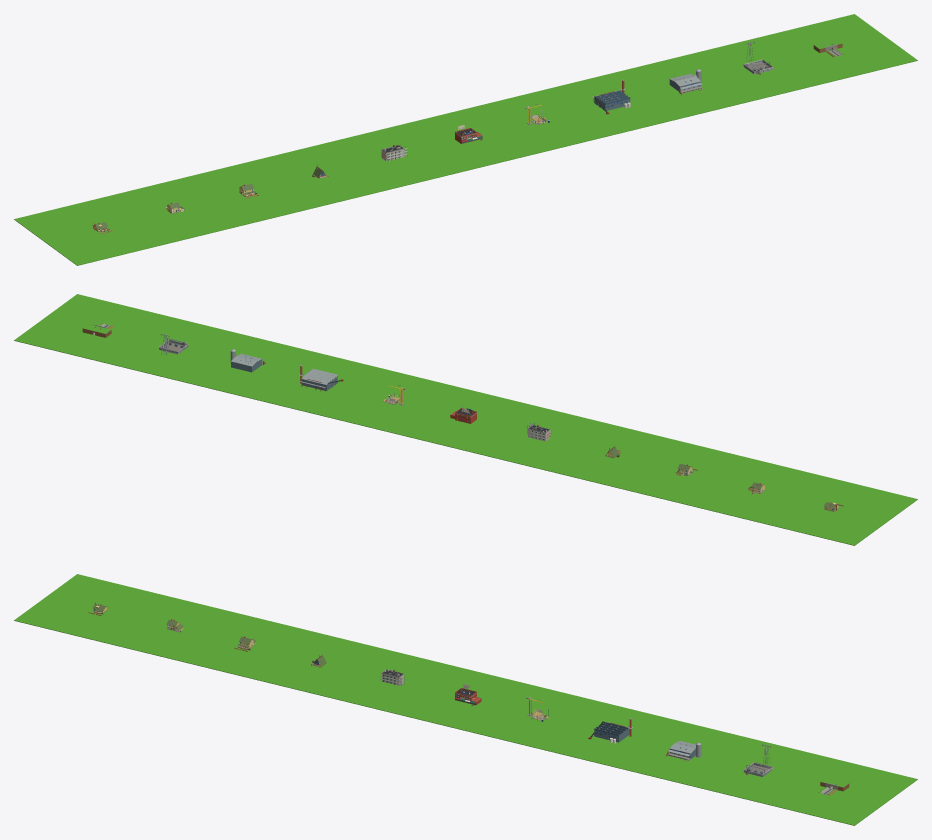
File: buildings_preview.glb
3 views of the same model, one above another, from view 1: azimuth 30°, elevation 25°; view 2: azimuth 150°, elevation 25°; view 3: azimuth 330°, elevation 25° (orthographic).
Visible parts, largest first — view 1: ground, b_factory_1; view 2: ground, b_factory_1; view 3: ground, b_factory_1.
Part boxes in pixels (left/top/right/bottom): ground: left=14, top=14, right=917, bottom=265; b_factory_1: left=592, top=79, right=630, bottom=114; ground: left=14, top=294, right=917, bottom=545; b_factory_1: left=299, top=365, right=343, bottom=391; ground: left=14, top=574, right=917, bottom=825; b_factory_1: left=588, top=718, right=632, bottom=743.
Bounding box in the file's own units: 920 × 20.8 × 120.
